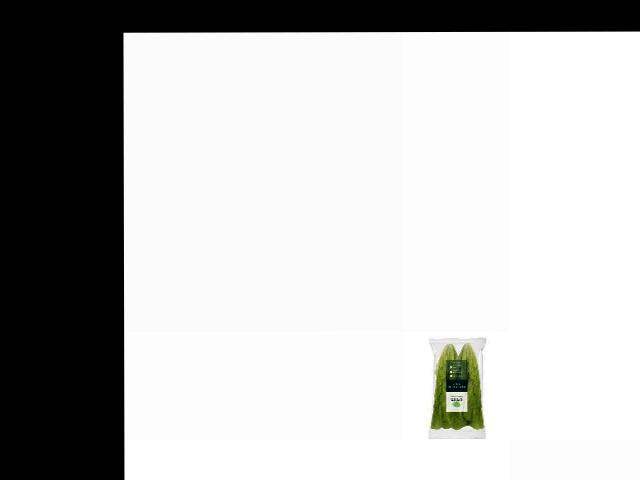lettuce: (430, 342, 490, 432)
